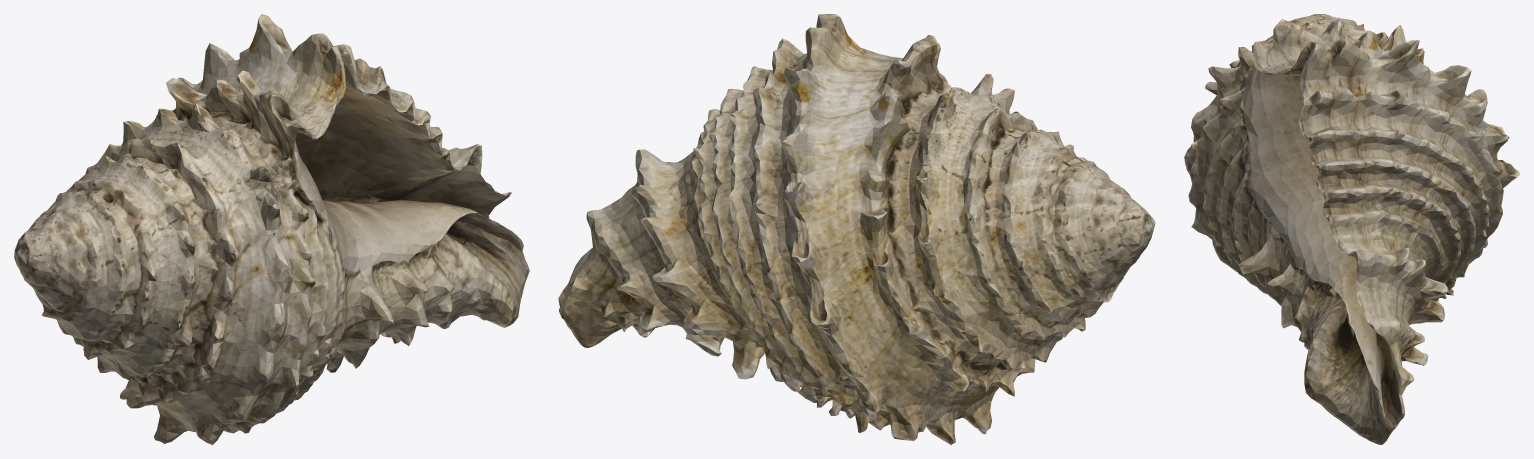
Rendered from Seashell.obj.
3 renders of one model, left to right at view 1: azimuth 30°, elevation 25°; view 2: azimuth 150°, elevation 25°; view 3: azimuth 270°, elevation 25°, orthographic. The views are drawn at different scales.
Parts seen in each view (by area): view 1: default; view 2: default; view 3: default.
Boxes of the visible parts, <box> form: default: <box>14,14,529,444</box>; default: <box>558,14,1155,444</box>; default: <box>1184,14,1519,444</box>.
Bounding box in the file's own units: 47.11 × 29.86 × 28.04.
2 materials, 2 textured.
